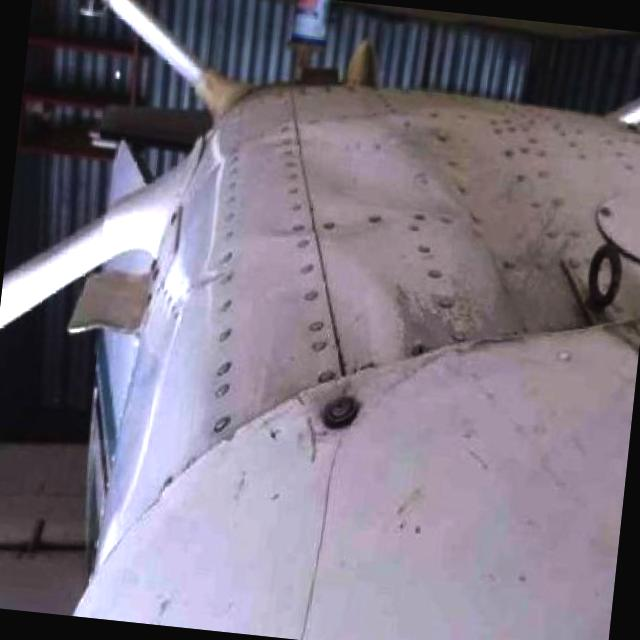dent: (209, 230, 416, 442)
